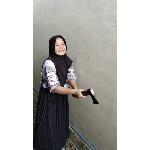Kapak: (72, 84, 102, 106)
